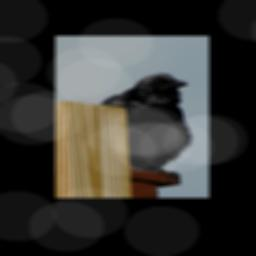Crow: (102, 73, 195, 175)
